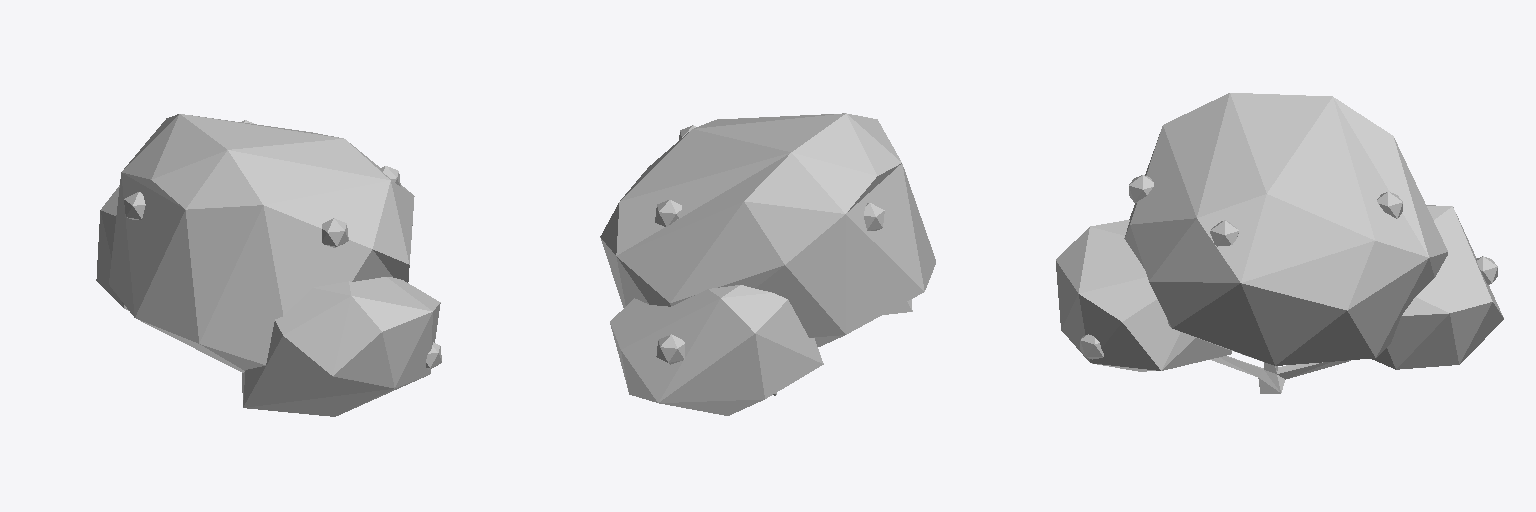
File: Bush3.3.obj
The picture shows the model from 3 angles: view 1: azimuth 30°, elevation 25°; view 2: azimuth 150°, elevation 25°; view 3: azimuth 270°, elevation 25°; orthographic projection.
Visible parts, largest first — view 1: Bush3.3_Cube, Bush3.001_Cube.001; view 2: Bush3.3_Cube, Bush3.001_Cube.001; view 3: Bush3.3_Cube, Bush3.001_Cube.001, Bush3.002_Cube.002.
Boxes of the visible parts, <box> form: Bush3.3_Cube: <box>96,114,440,416</box>; Bush3.001_Cube.001: <box>124,120,441,369</box>; Bush3.3_Cube: <box>600,113,935,415</box>; Bush3.001_Cube.001: <box>655,125,884,364</box>; Bush3.3_Cube: <box>1056,93,1503,371</box>; Bush3.001_Cube.001: <box>1080,175,1497,359</box>; Bush3.002_Cube.002: <box>1210,356,1350,393</box>.
Size of the model in its own units: 1.18 by 1.11 by 1.64.